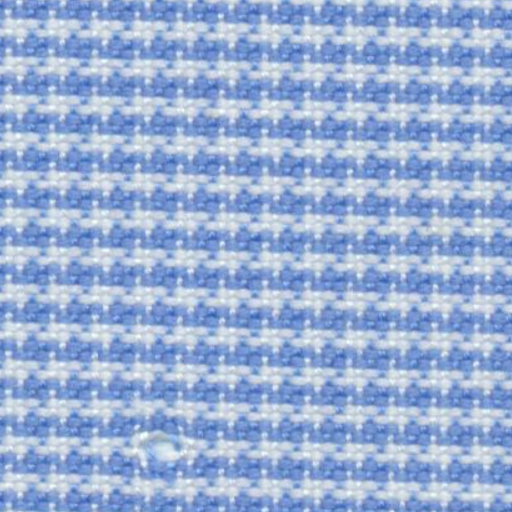PoDong: (120, 411, 208, 479)
